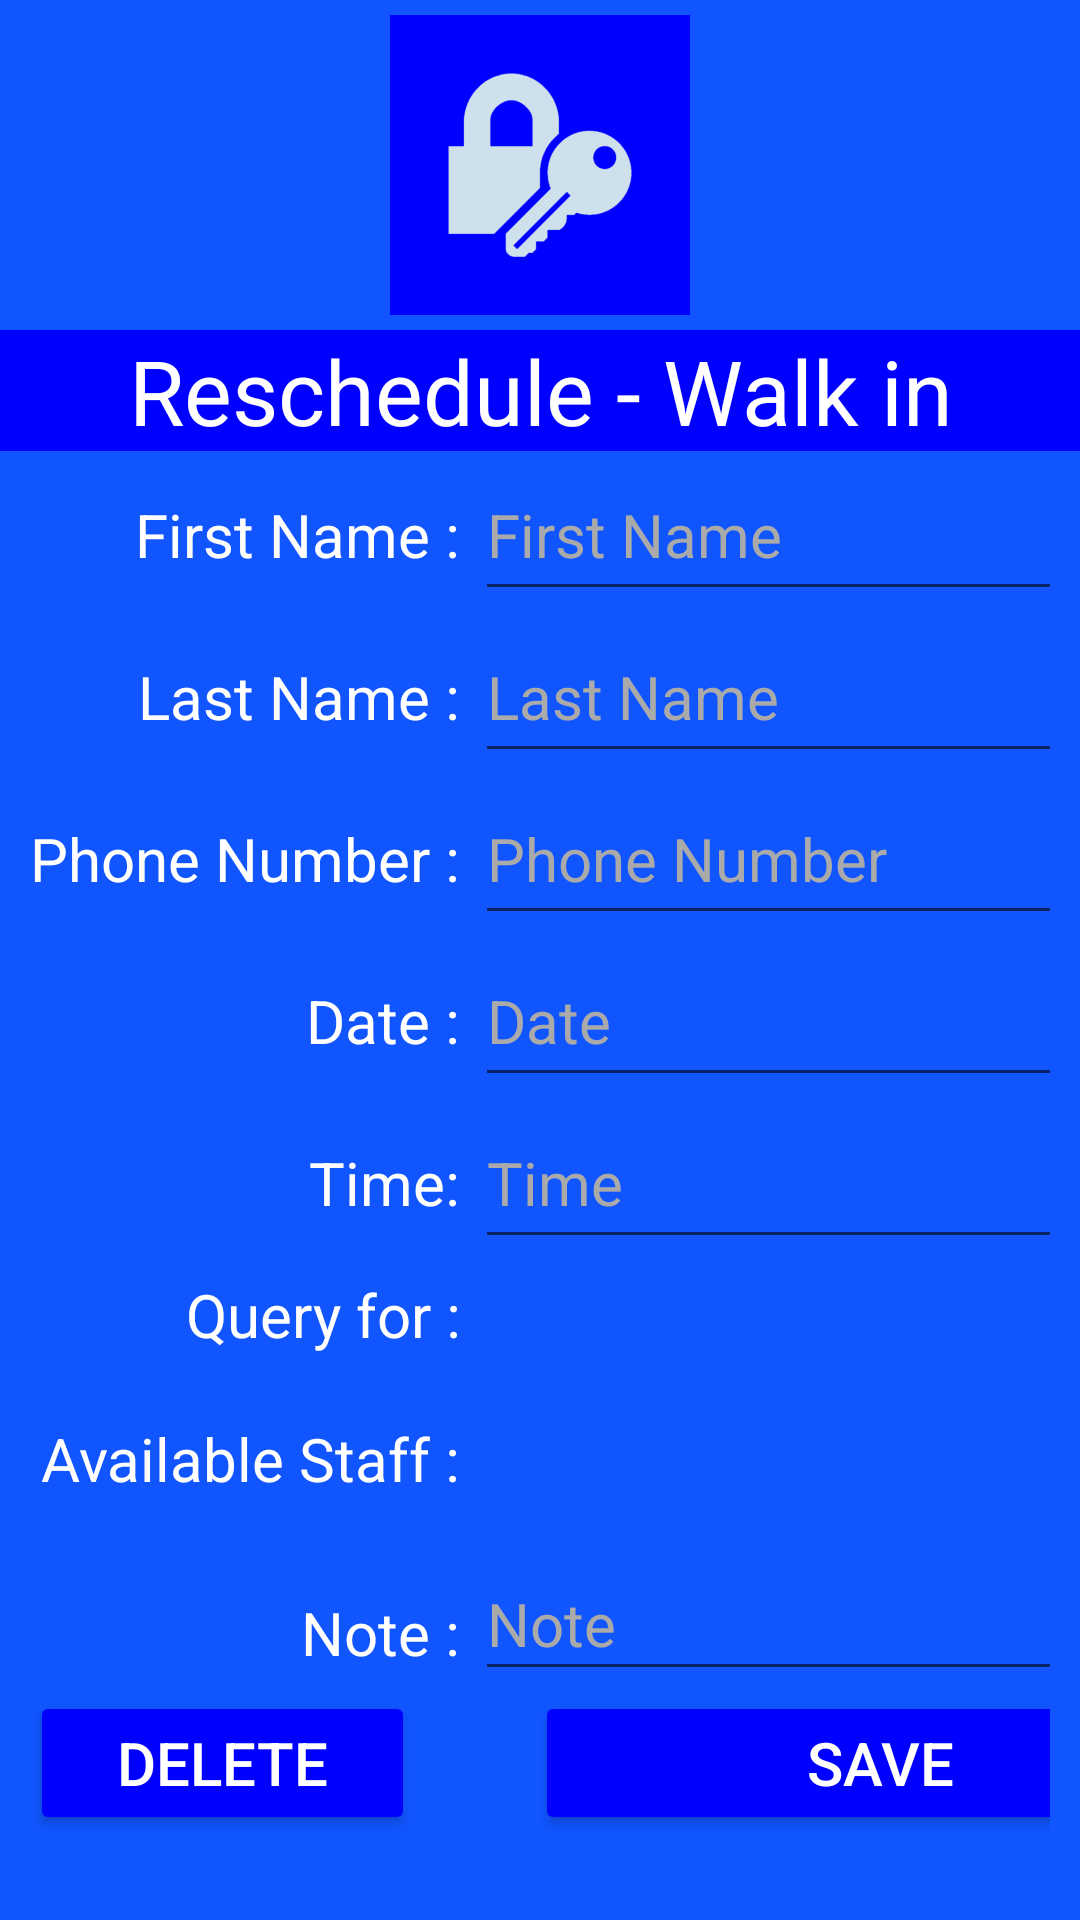

Icons on this 1080px x 1920px Android screen, each with its box as [x1, y1, x2, y2]:
security: [390, 15, 690, 315]
